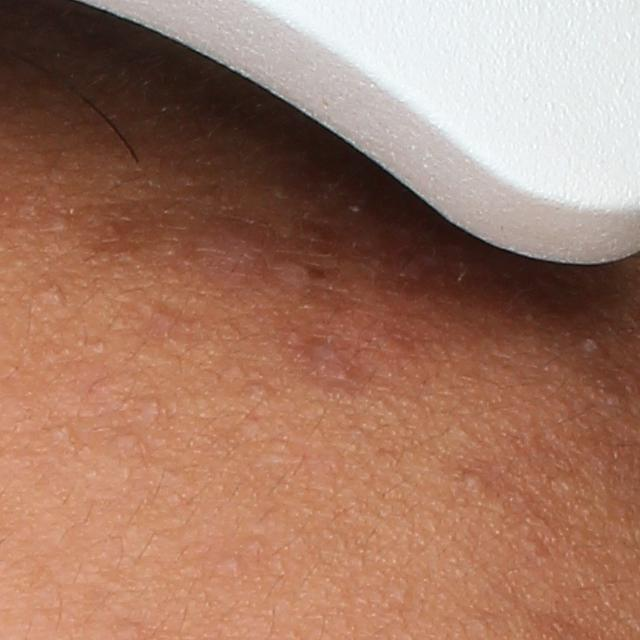comedo: (31, 280, 66, 309), (459, 470, 491, 493), (217, 555, 247, 578), (48, 209, 72, 232), (143, 397, 165, 421)
